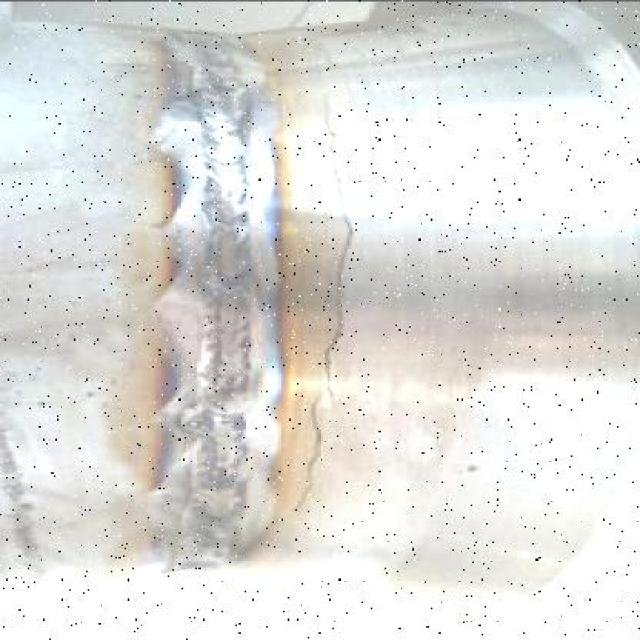Defect: (318, 90, 359, 395), (290, 398, 335, 522)
